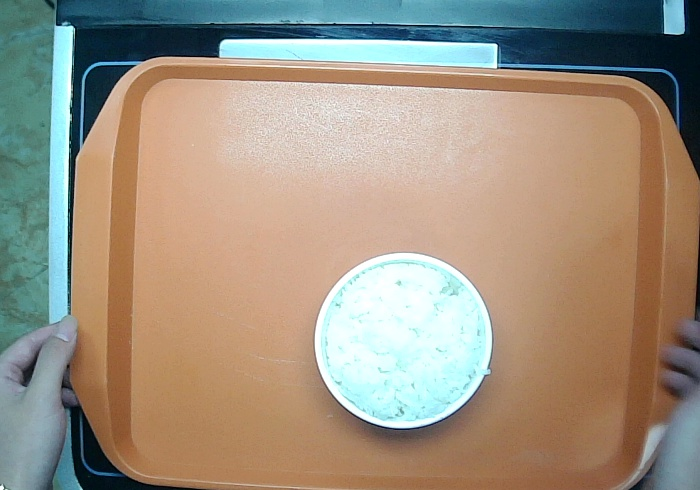HZYJPL-Fan_Wan: (315, 251, 495, 434)
